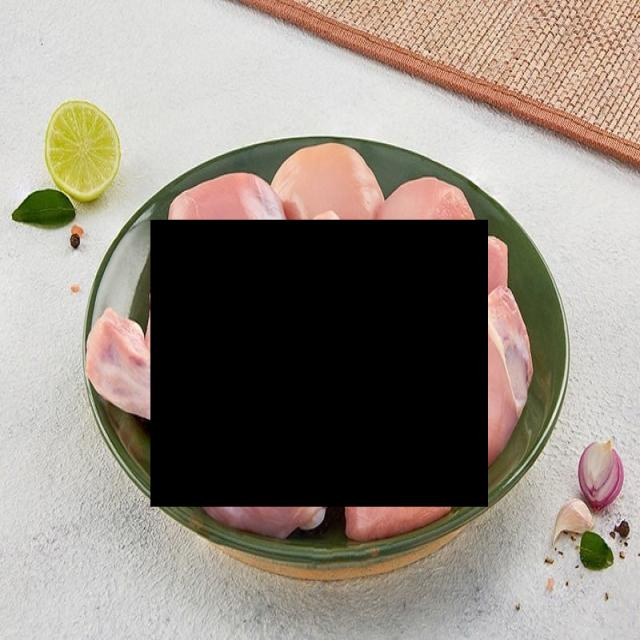Chicken: (151, 220, 488, 508)
